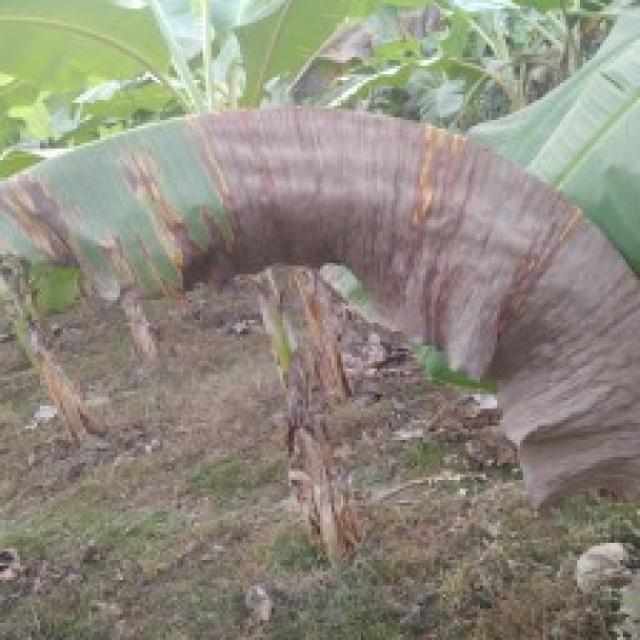Bract_mosaic_virus: (451, 277, 640, 483), (288, 114, 392, 270), (299, 24, 374, 90)
Early_leaf_spot: (116, 118, 201, 281), (401, 113, 463, 260), (178, 114, 238, 258), (0, 162, 83, 262), (509, 190, 574, 314), (231, 103, 287, 242), (87, 227, 153, 300)
